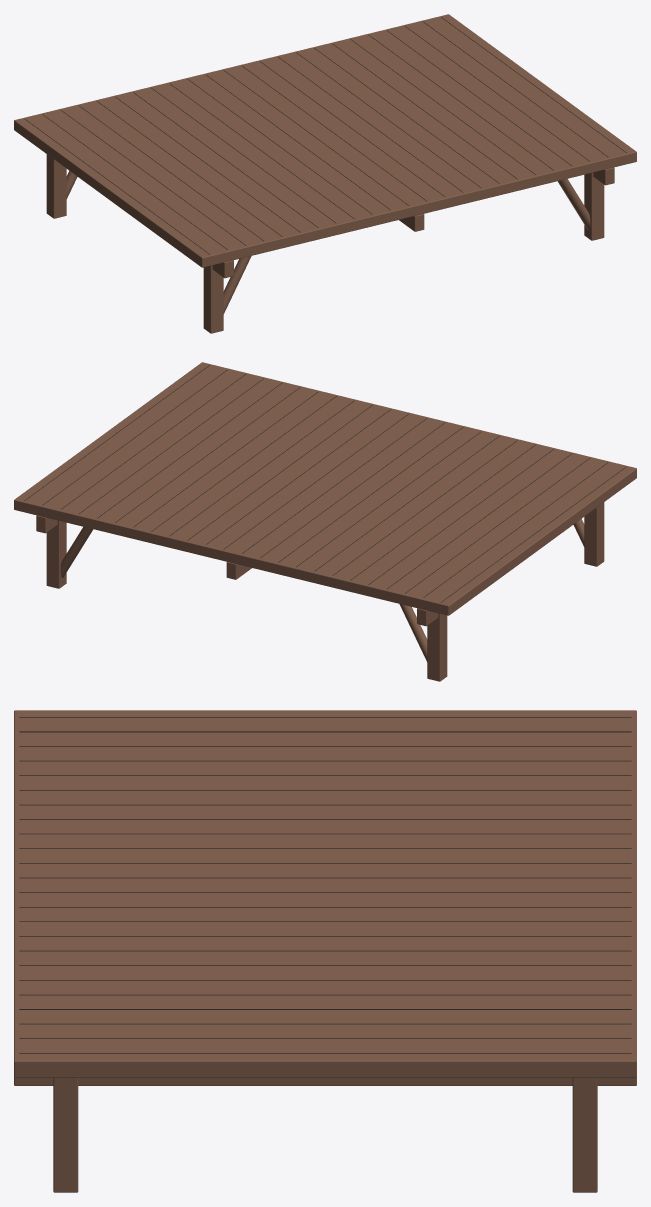
The model's file is griffin-airmail-roost-and-posthouse-cliff-landing-plat-b4b630ed__30495.glb.
3 renders of one model, top to bottom at view 1: azimuth 30°, elevation 25°; view 2: azimuth 150°, elevation 25°; view 3: azimuth 270°, elevation 25°, orthographic. The views are drawn at different scales.
Visible parts, largest first — view 1: cliff-landing-platform; view 2: cliff-landing-platform; view 3: cliff-landing-platform.
Boxes of the visible parts, x1=… form: cliff-landing-platform: x1=14, y1=14, x2=636, y2=333; cliff-landing-platform: x1=14, y1=362, x2=636, y2=681; cliff-landing-platform: x1=14, y1=710, x2=636, y2=1192.
Size of the model in its own units: 8 by 1.58 by 6.
